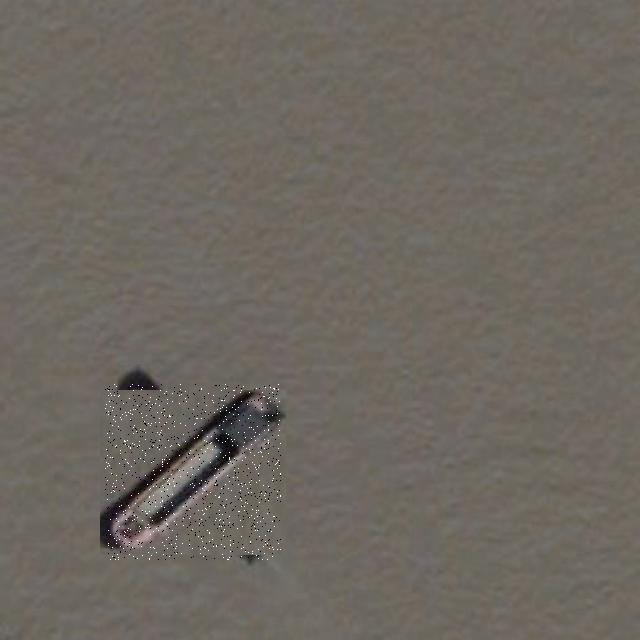boat: (105, 384, 281, 560)
